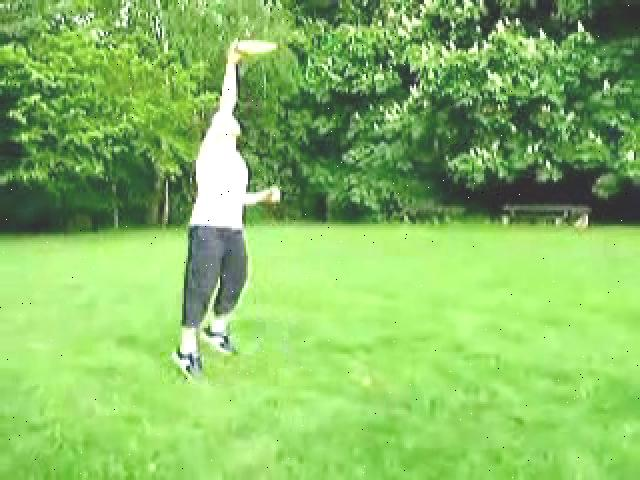T: (157, 33, 294, 384)
